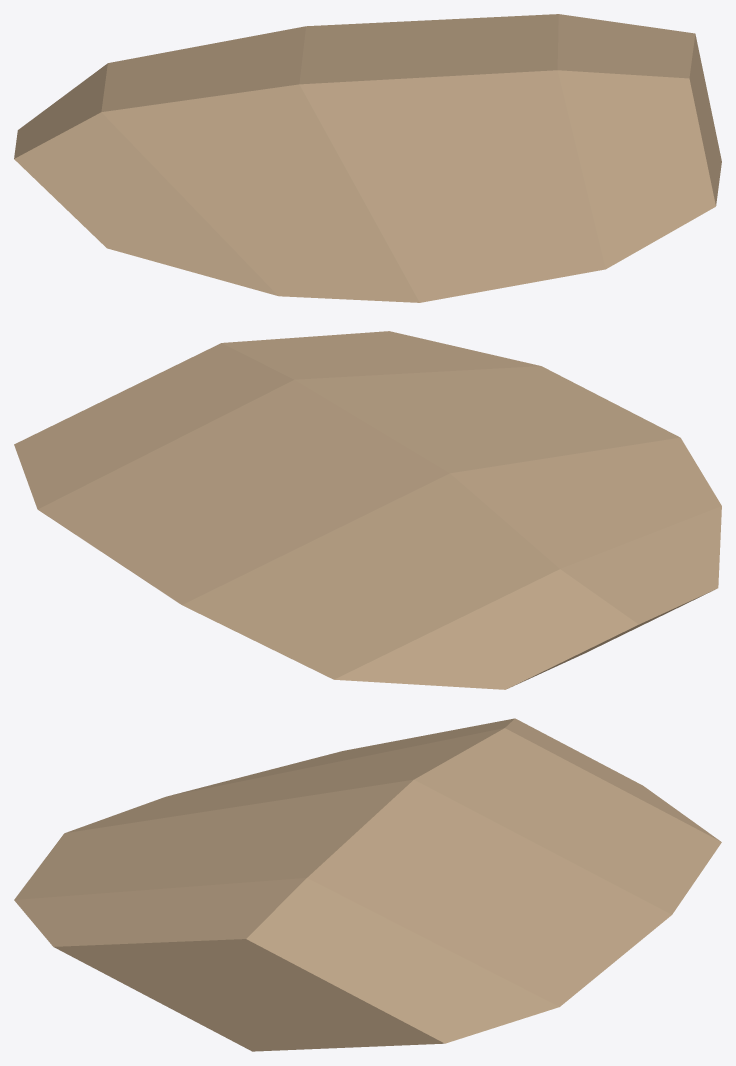
File: rock_16.FBX
The picture shows the model from 3 angles, top to bottom: view 1: azimuth 30°, elevation 25°; view 2: azimuth 150°, elevation 25°; view 3: azimuth 270°, elevation 25°; orthographic projection. The views are drawn at different scales.
Parts seen in each view (by area): view 1: rock_16; view 2: rock_16; view 3: rock_16.
Part boxes in pixels (x1=…): rock_16: x1=14, y1=14, x2=721, y2=302; rock_16: x1=14, y1=331, x2=721, y2=689; rock_16: x1=14, y1=718, x2=721, y2=1051.
Bounding box in the file's own units: 1234 × 256 × 1159.
